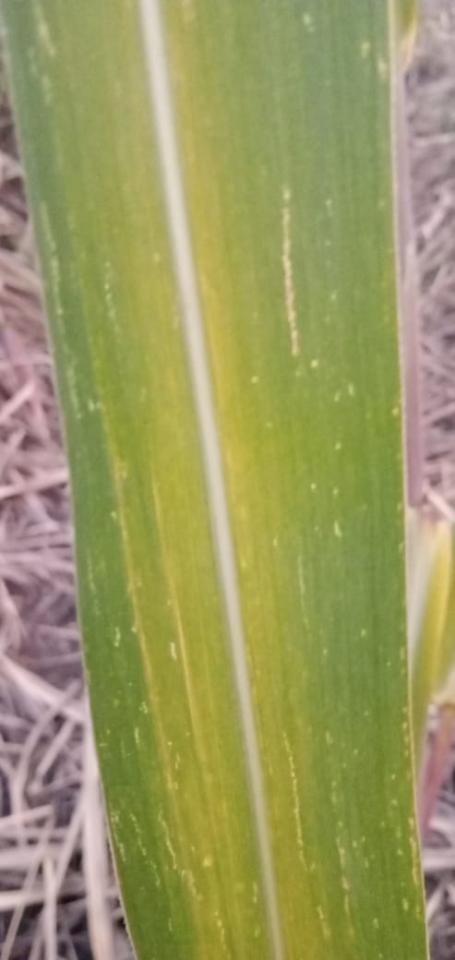Yellow: (84, 0, 268, 959), (153, 1, 311, 959)
